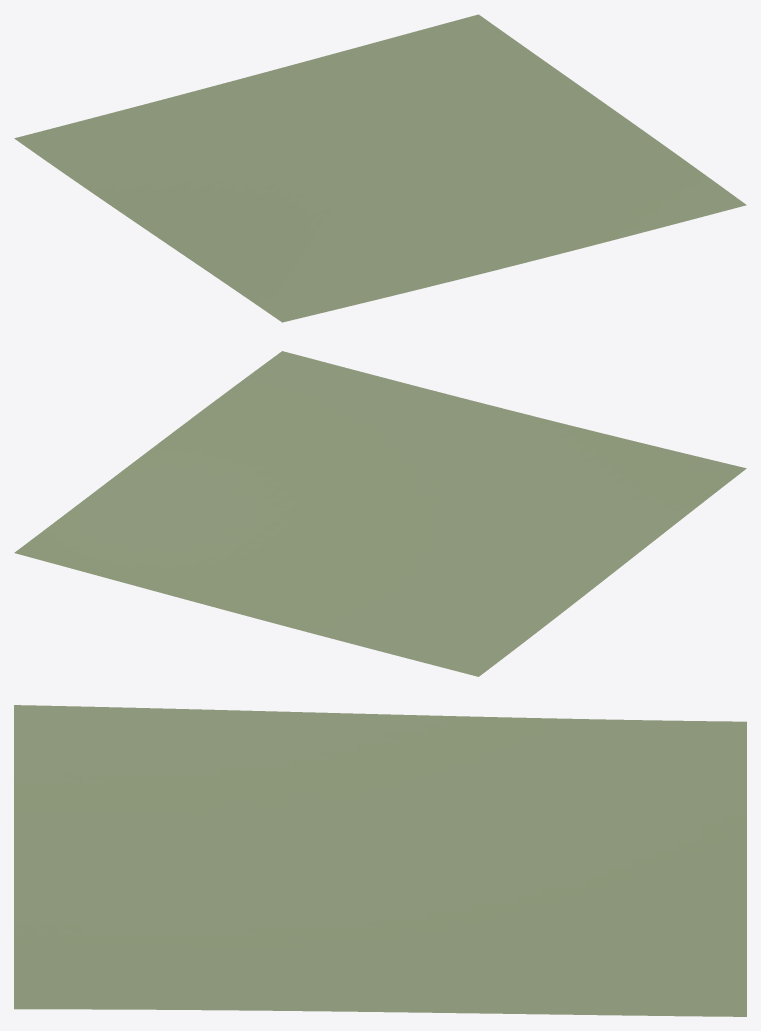
Rendered from expanse-29-11.glb.
The picture shows the model from 3 angles, top to bottom: view 1: azimuth 30°, elevation 25°; view 2: azimuth 150°, elevation 25°; view 3: azimuth 270°, elevation 25°; orthographic projection. The views are drawn at different scales.
Parts seen in each view (by area): view 1: expanse-29-11; view 2: expanse-29-11; view 3: expanse-29-11.
Boxes of the visible parts, x1,y1,x2,y2 form: expanse-29-11: (14,14,746,322); expanse-29-11: (14,351,746,676); expanse-29-11: (14,705,746,1016).
Size of the model in its own units: 256 by 8.53 by 256.
